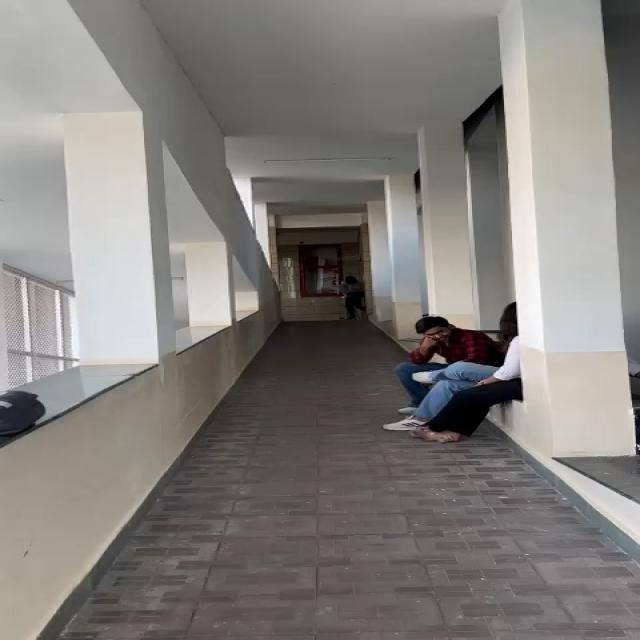floor: (134, 500, 635, 640), (251, 340, 409, 466)
moving_object: (417, 316, 541, 433)
wall: (6, 20, 212, 516), (240, 127, 470, 313)
